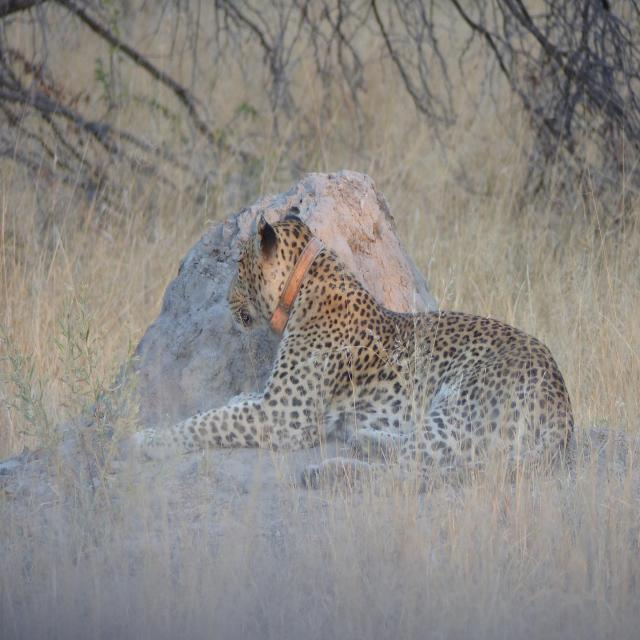Leopard: (163, 193, 596, 494)
